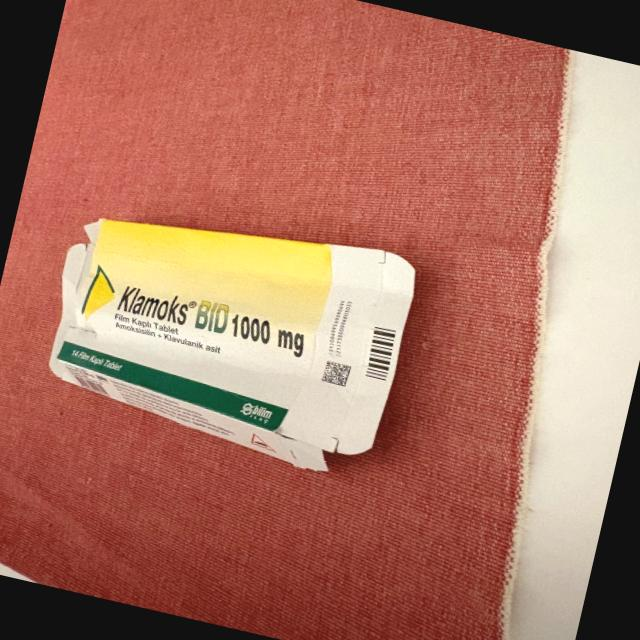damaged_package: (29, 179, 422, 486)
